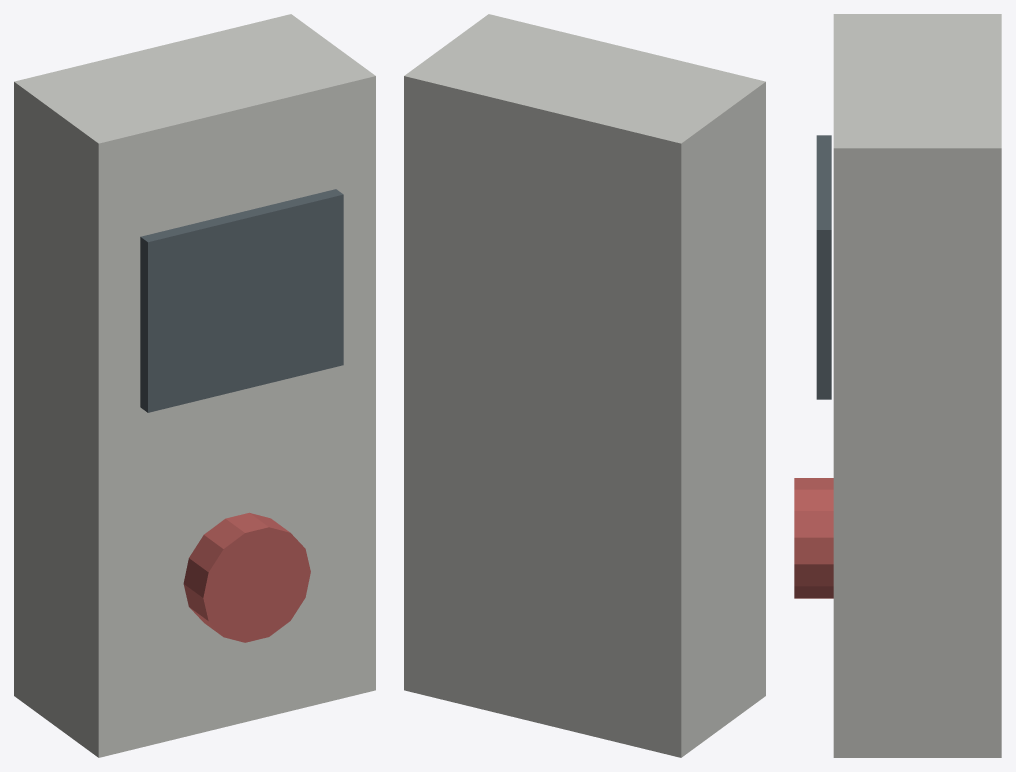
Rendered from SAF-009.glb.
3 renders of one model, left to right at view 1: azimuth 30°, elevation 25°; view 2: azimuth 150°, elevation 25°; view 3: azimuth 270°, elevation 25°, orthographic.
Visible parts, largest first — view 1: 000_Intercom_case, 001_Microphone_grill, 002_Call_button; view 2: 000_Intercom_case; view 3: 000_Intercom_case, 002_Call_button, 001_Microphone_grill.
Boxes of the visible parts, x1,y1,x2,y2 form: 000_Intercom_case: (14, 14, 375, 757); 001_Microphone_grill: (140, 189, 343, 412); 002_Call_button: (183, 512, 310, 642); 000_Intercom_case: (404, 14, 765, 757); 000_Intercom_case: (833, 14, 1001, 757); 002_Call_button: (794, 478, 833, 598); 001_Microphone_grill: (816, 135, 831, 399).
Size of the model in its own units: 0.17 by 0.36 by 0.111.
